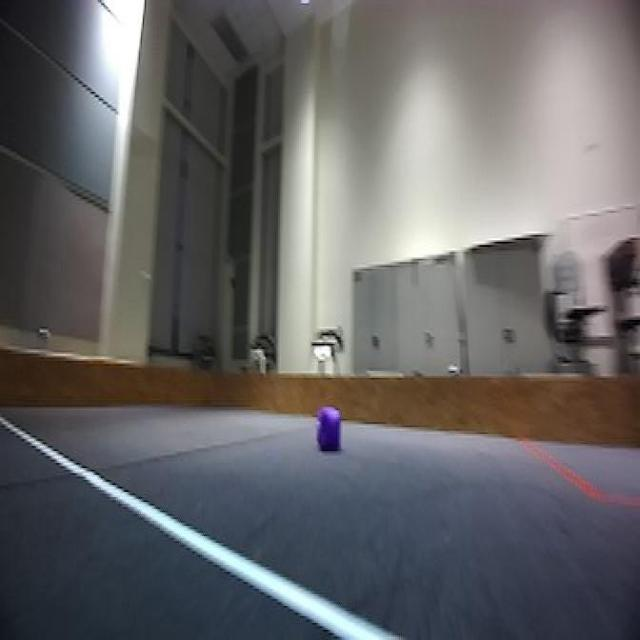frc_cube: (314, 402, 345, 452)
